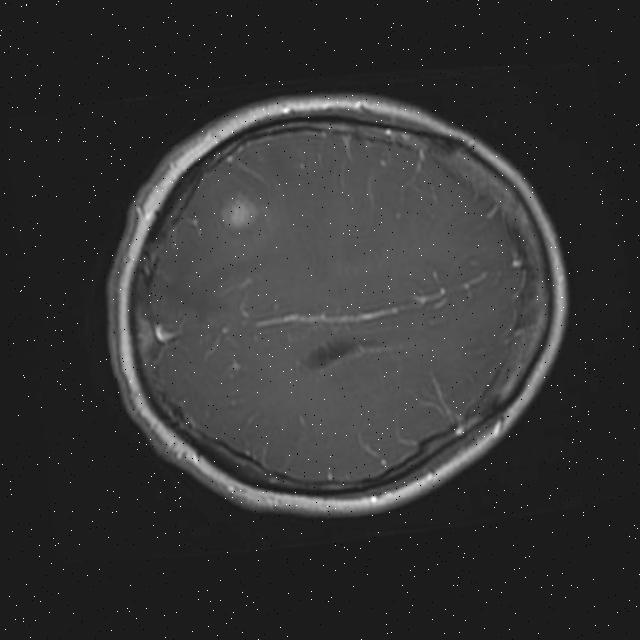Glioma: (216, 189, 261, 232)
